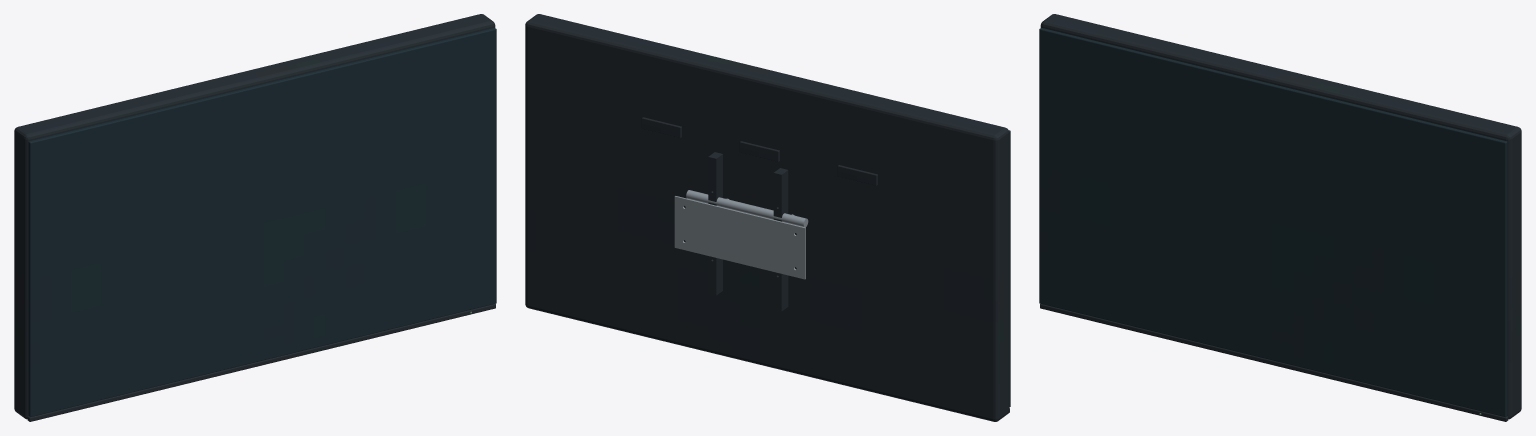
The model's file is sixty-five-inch-display-with-wall-bracket.glb.
3 renders of one model, left to right at view 1: azimuth 30°, elevation 25°; view 2: azimuth 150°, elevation 25°; view 3: azimuth 330°, elevation 25°, orthographic.
Parts seen in each view (by area): view 1: Display glass, Sixty five inch display housing, Display lower bezel; view 2: Sixty five inch display housing, Mechanical Wall_anchor_plate, Mechanical Tilt_rail_-100, Mechanical Tilt_rail_100, Mechanical Crossbar, Display glass, Rear display ventilation.001, Rear display ventilation.002, Rear display ventilation; view 3: Display glass, Sixty five inch display housing, Display lower bezel.
Part boxes in pixels (x1,y1,x2,y2): Display glass: (28,28,496,417); Sixty five inch display housing: (14,14,495,419); Display lower bezel: (27,304,495,421); Sixty five inch display housing: (525,14,1009,421); Mechanical Wall_anchor_plate: (674,196,805,279); Mechanical Tilt_rail_-100: (773,168,788,311); Mechanical Tilt_rail_100: (708,152,722,295); Mechanical Crossbar: (686,190,808,227); Display glass: (1009,130,1010,407); Rear display ventilation.001: (739,141,779,161); Rear display ventilation.002: (641,117,681,137); Rear display ventilation: (837,165,877,185); Display glass: (1039,28,1507,417); Sixty five inch display housing: (1040,14,1521,419); Display lower bezel: (1040,304,1508,421).
Bounding box in the file's own units: 1.45 × 0.84 × 0.193.
4 materials, 4 textured.
